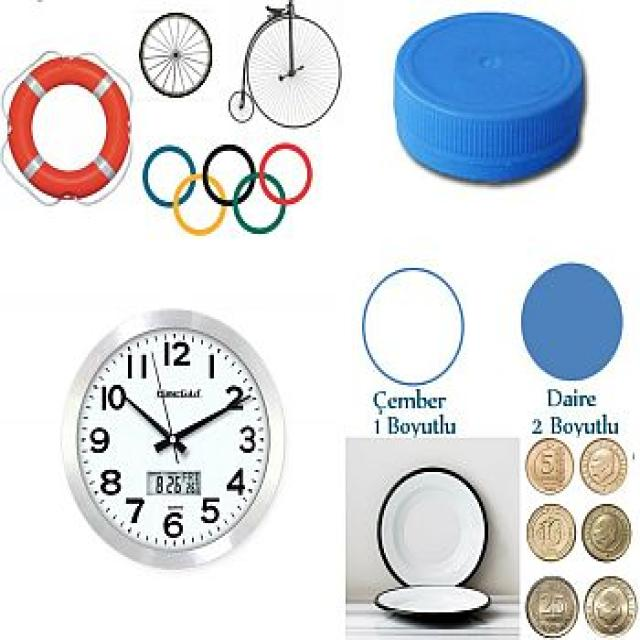-circle-round-: (382, 2, 599, 200), (2, 57, 140, 212), (351, 262, 481, 395), (508, 261, 627, 389), (140, 10, 212, 96), (521, 571, 584, 636), (585, 568, 638, 634), (524, 434, 576, 499)
